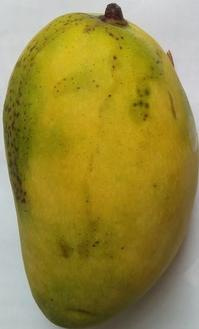PartiallyRipe: (1, 1, 199, 329)
